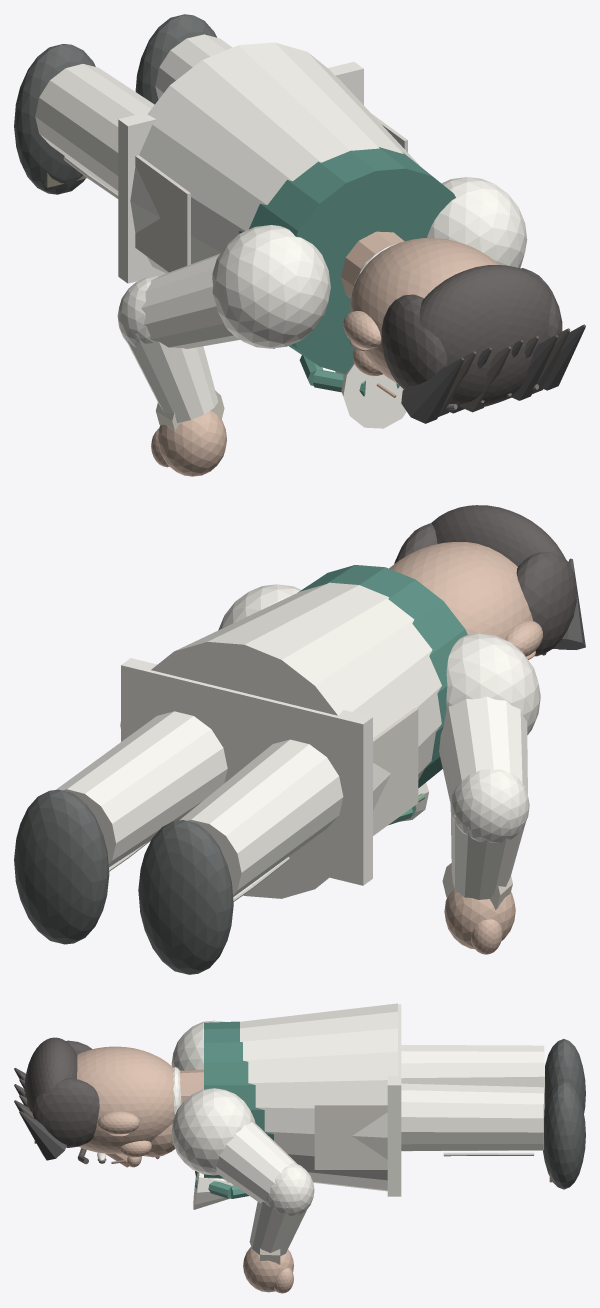
Rendered from imran_khan_fighter_v2.glb.
3 renders of one model, top to bottom at view 1: azimuth 30°, elevation 25°; view 2: azimuth 150°, elevation 25°; view 3: azimuth 270°, elevation 25°, orthographic. The views are drawn at different scales.
Parts seen in each view (by area): view 1: kurta_tunic_14, signature_waistcoat_18, thick_swept_back_hair_72, kurta_shoulder_31, shalwar_leg_2, recognizable_face_head_47, kurta_shoulder_38, upper_arm_sleeve_32, Peshawari_chappal_shoe_0, lower_arm_sleeve_34, tunic_hem_15, kurta_side_seam_16 (+13 smaller); view 2: kurta_tunic_14, tunic_hem_15, shalwar_leg_9, shalwar_leg_2, Peshawari_chappal_shoe_7, Peshawari_chappal_shoe_0, recognizable_face_head_47, upper_arm_sleeve_32, signature_waistcoat_18, kurta_shoulder_31, elbow_fabric_33, thick_swept_back_hair_72 (+10 smaller); view 3: kurta_tunic_14, shalwar_leg_9, recognizable_face_head_47, shalwar_leg_2, kurta_shoulder_38, kurta_side_seam_17, Peshawari_chappal_shoe_7, upper_arm_sleeve_39, signature_waistcoat_18, full_side_hair_74, thick_swept_back_hair_72, tunic_hem_15 (+11 smaller).
Part boxes in pixels (<box>): kurta_tunic_14: <box>130,42,420,274</box>; signature_waistcoat_18: <box>239,147,455,373</box>; thick_swept_back_hair_72: <box>419,265,551,406</box>; kurta_shoulder_31: <box>212,225,330,348</box>; shalwar_leg_2: <box>35,64,154,194</box>; recognizable_face_head_47: <box>350,238,498,384</box>; kurta_shoulder_38: <box>427,177,527,268</box>; upper_arm_sleeve_32: <box>141,253,239,348</box>; Peshawari_chappal_shoe_0: <box>14,44,95,194</box>; lower_arm_sleeve_34: <box>124,333,218,422</box>; tunic_hem_15: <box>118,61,363,283</box>; kurta_side_seam_16: <box>135,155,190,272</box>; kurta_tunic_14: <box>151,582,441,898</box>; tunic_hem_15: <box>121,658,372,885</box>; shalwar_leg_9: <box>56,711,227,867</box>; shalwar_leg_2: <box>179,739,343,897</box>; Peshawari_chappal_shoe_7: <box>14,789,109,944</box>; Peshawari_chappal_shoe_0: <box>138,820,233,974</box>; recognizable_face_head_47: <box>389,542,532,639</box>; upper_arm_sleeve_32: <box>439,696,527,803</box>; signature_waistcoat_18: <box>298,565,467,788</box>; kurta_shoulder_31: <box>446,633,540,734</box>; elbow_fabric_33: <box>450,769,529,842</box>; thick_swept_back_hair_72: <box>431,505,565,566</box>; kurta_tunic_14: <box>240,1003,397,1191</box>; shalwar_leg_9: <box>401,1083,544,1151</box>; recognizable_face_head_47: <box>77,1046,174,1153</box>; shalwar_leg_2: <box>401,1045,544,1088</box>; kurta_shoulder_38: <box>171,1088,255,1175</box>; kurta_side_seam_17: <box>314,1104,387,1169</box>; Peshawari_chappal_shoe_7: <box>543,1080,585,1189</box>; upper_arm_sleeve_39: <box>215,1122,296,1203</box>; signature_waistcoat_18: <box>204,1021,273,1178</box>; full_side_hair_74: <box>31,1078,99,1147</box>; thick_swept_back_hair_72: <box>24,1037,77,1110</box>; tunic_hem_15: <box>387,1004,401,1196</box>.
Bounding box in the file's own units: 1.86 × 1.5 × 3.36.
